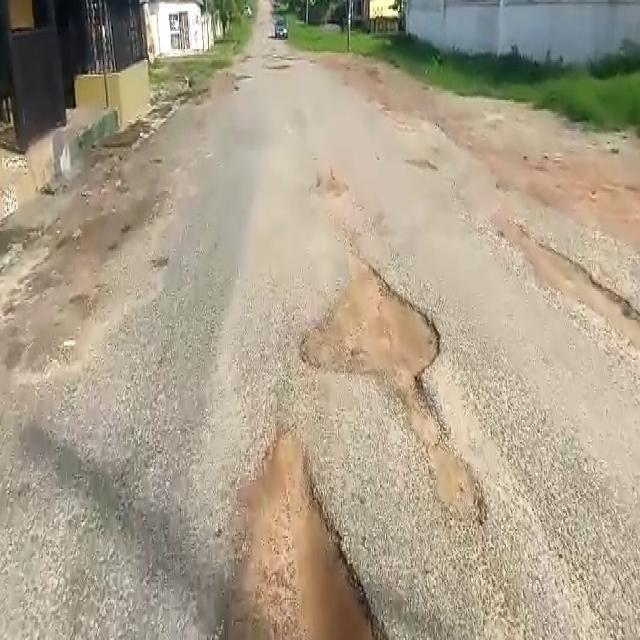pothole: (214, 431, 409, 640), (292, 258, 454, 398), (396, 393, 496, 544)
